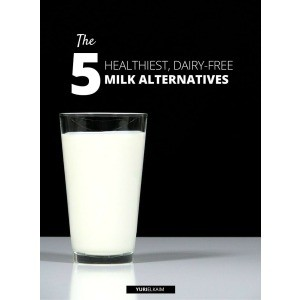milk_brain food: (56, 114, 152, 256)
